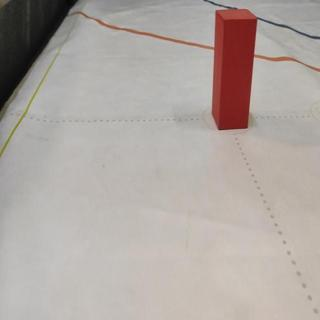redbox: (213, 9, 256, 130)
